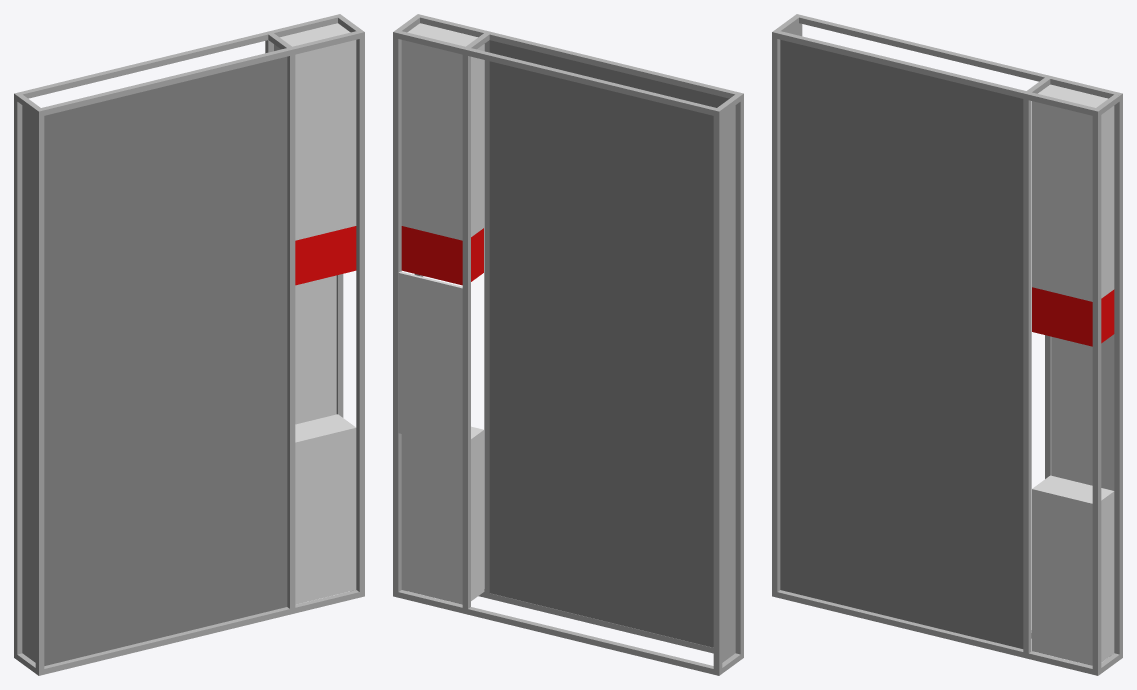
Rendered from CN Global Counter_Ad_board.FBX.
3 renders of one model, left to right at view 1: azimuth 30°, elevation 25°; view 2: azimuth 150°, elevation 25°; view 3: azimuth 330°, elevation 25°, orthographic.
Parts seen in each view (by area): view 1: Plane003, CN Global Counter_stall_3, Rectangle061, Rectangle352; view 2: Plane003, CN Global Counter_stall_3, Rectangle061, Rectangle352; view 3: Plane003, CN Global Counter_stall_3, Rectangle061, Rectangle352.
Part boxes in pixels (x1,y1,x2,y2): Plane003: [44, 56, 287, 665]; CN Global Counter_stall_3: [14, 14, 364, 675]; Rectangle061: [274, 23, 356, 604]; Rectangle352: [295, 275, 336, 424]; Plane003: [489, 40, 729, 647]; CN Global Counter_stall_3: [393, 14, 743, 675]; Rectangle061: [401, 23, 483, 604]; Rectangle352: [398, 271, 462, 448]; Plane003: [780, 39, 1023, 648]; CN Global Counter_stall_3: [772, 14, 1122, 675]; Rectangle061: [1032, 84, 1114, 665]; Rectangle352: [1051, 334, 1114, 490].
Size of the model in its own units: 63.64 by 105 by 8.35.
